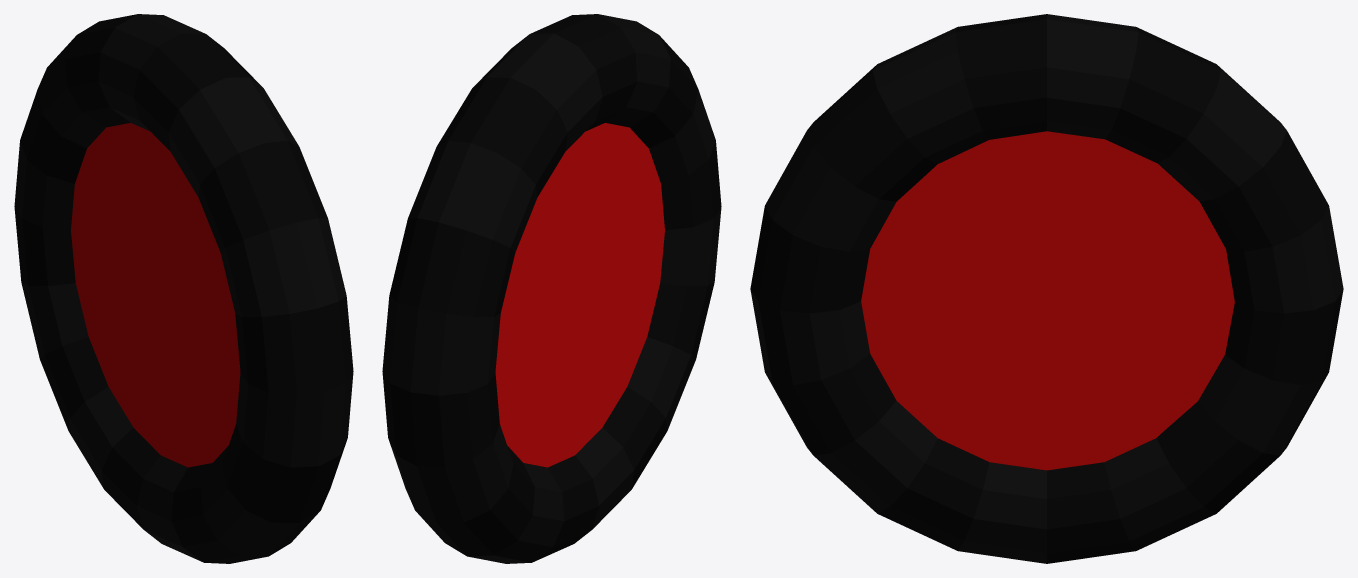
Rendered from RuedaTIPO2.obj.
3 views of the same model, side by side, from view 1: azimuth 30°, elevation 25°; view 2: azimuth 150°, elevation 25°; view 3: azimuth 270°, elevation 25° (orthographic). The views are drawn at different scales.
Parts seen in each view (by area): view 1: Torus.025; view 2: Torus.025; view 3: Torus.025.
Part boxes in pixels (<box>): Torus.025: <box>14,14,353,563</box>; Torus.025: <box>382,14,721,563</box>; Torus.025: <box>750,14,1343,563</box>.
Size of the model in its own units: 0.0763 by 0.3681 by 0.3681.
